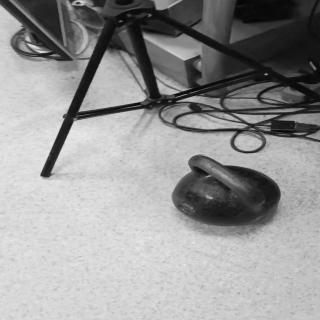kettlebell: (171, 154, 284, 228)
